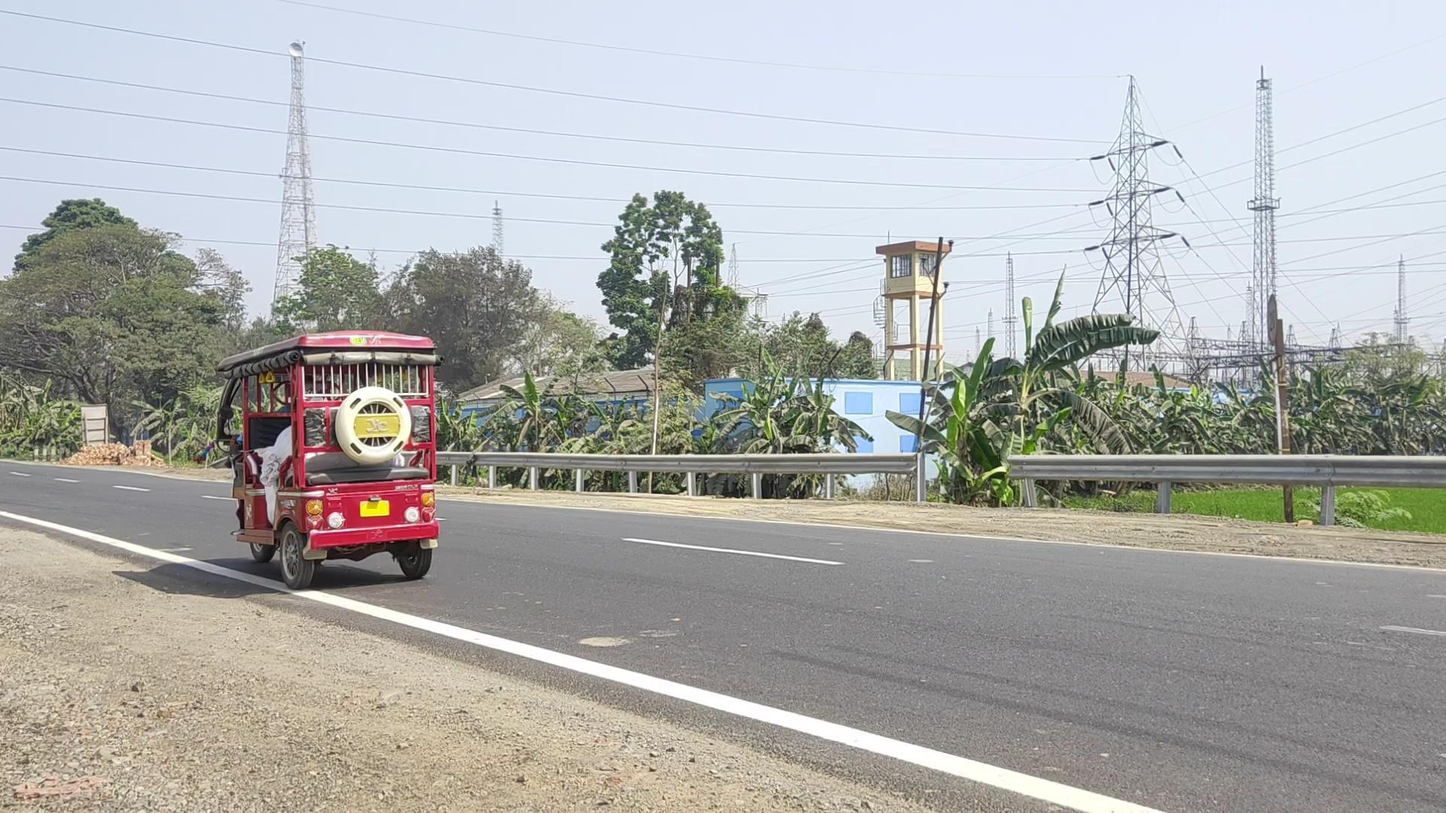Auto: (215, 330, 440, 592)
